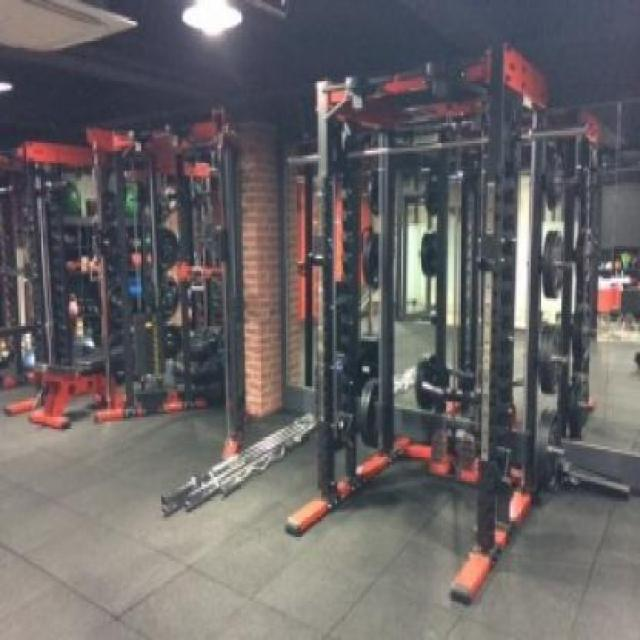smith machine: (286, 40, 549, 609)
